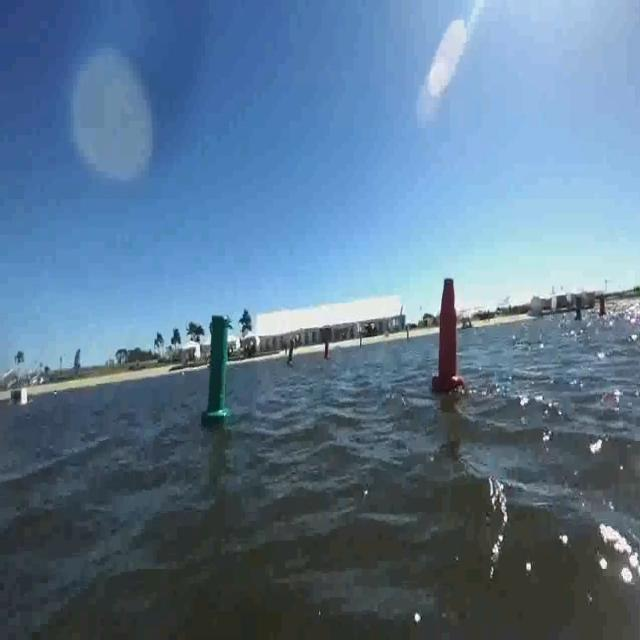green-column-buoy: (204, 313, 233, 426)
red-column-buoy: (433, 274, 467, 397)
